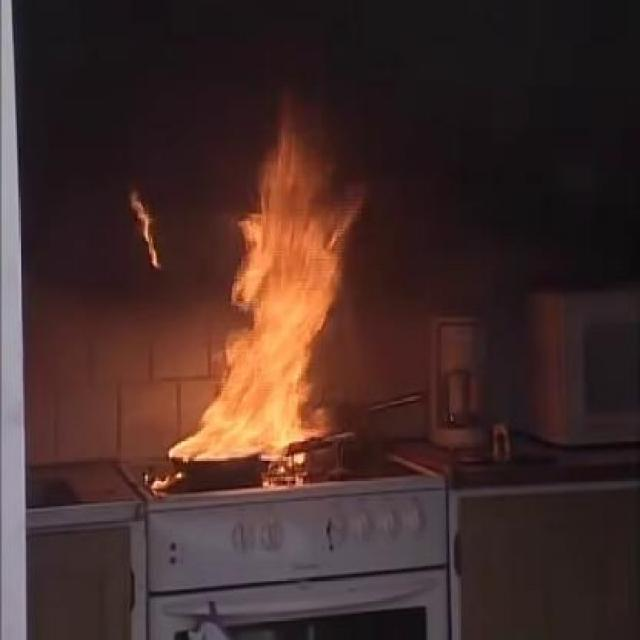fire: (178, 224, 346, 446)
smoke: (249, 102, 394, 205)
